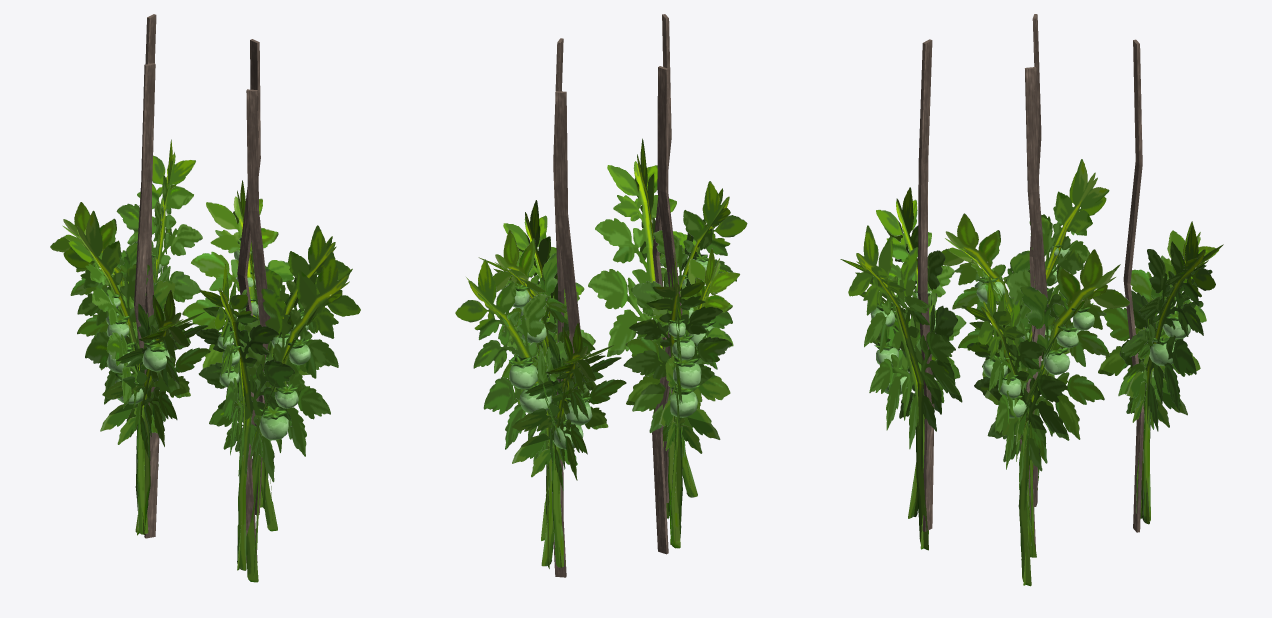
File: Tomato_Step02.fbx
3 renders of one model, left to right at view 1: azimuth 30°, elevation 25°; view 2: azimuth 150°, elevation 25°; view 3: azimuth 270°, elevation 25°, orthographic. The views are drawn at different scales.
Parts seen in each view (by area): view 1: Tomato_small.007, Tomato_Step02; view 2: Tomato_small.007, Tomato_Step02; view 3: Tomato_small.007, Tomato_Step02.
Part boxes in pixels (x1,y1,x2,y2): Tomato_small.007: (50, 139, 360, 582); Tomato_Step02: (134, 14, 270, 562); Tomato_small.007: (455, 138, 747, 568); Tomato_Step02: (553, 14, 682, 577); Tomato_small.007: (840, 159, 1223, 586); Tomato_Step02: (918, 14, 1143, 549).
Bounding box in the file's own units: 238 × 386 × 303.
